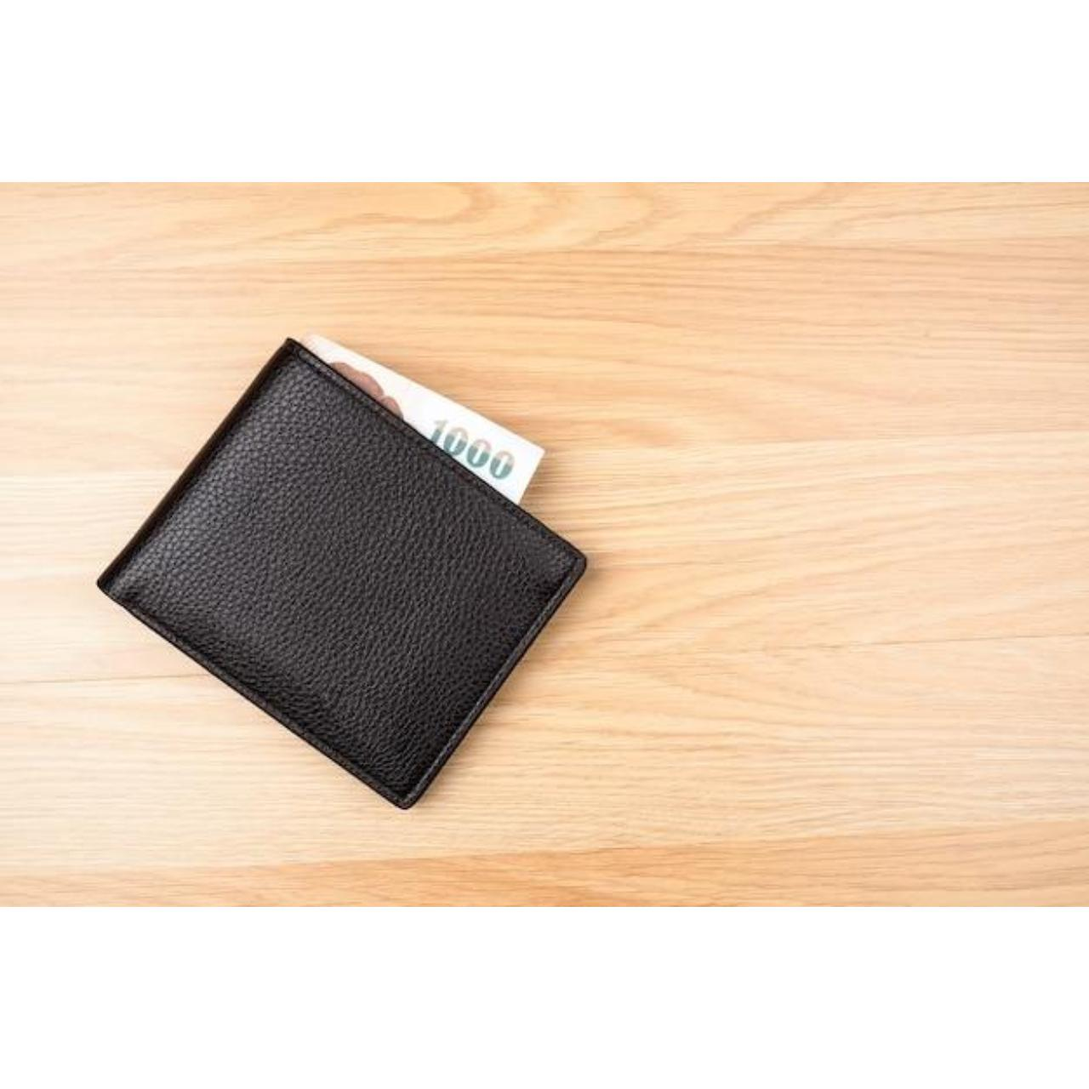wallet: (89, 345, 605, 875)
